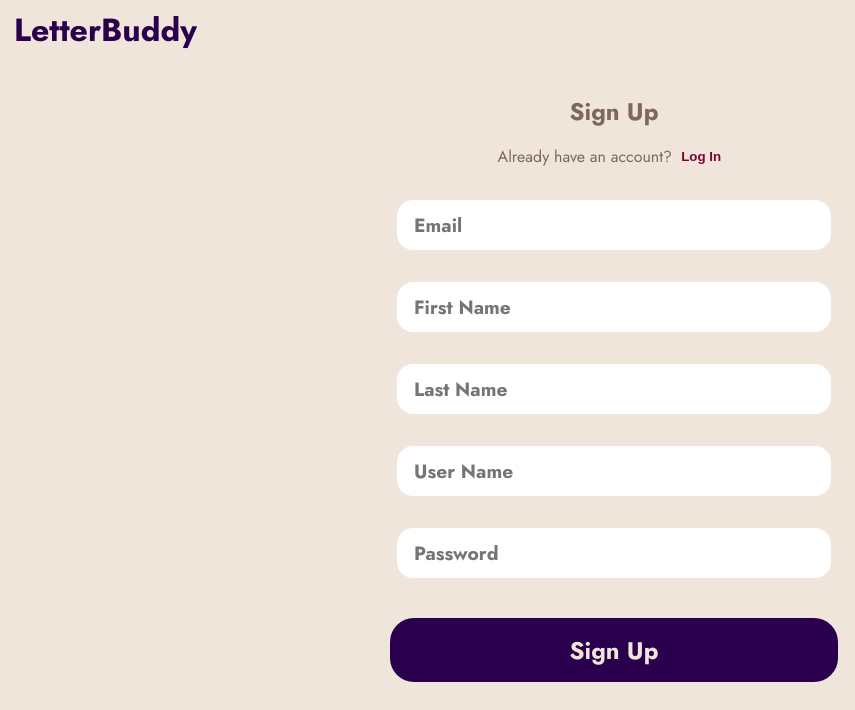
it: SignUp Form › should display validation error for short password
The image size is (855, 710).
Type "123" into the password field with placeholder "Password" at x=614, y=553, box x1=397 y1=528 x2=831 y2=578
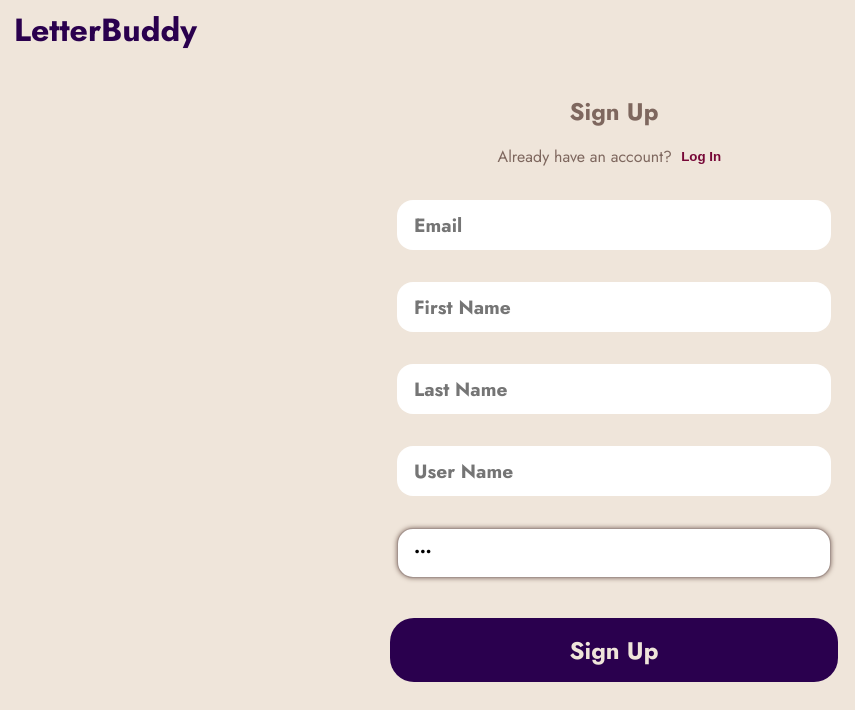
Click the submit button at x=614, y=650, box x1=390 y1=618 x2=838 y2=682
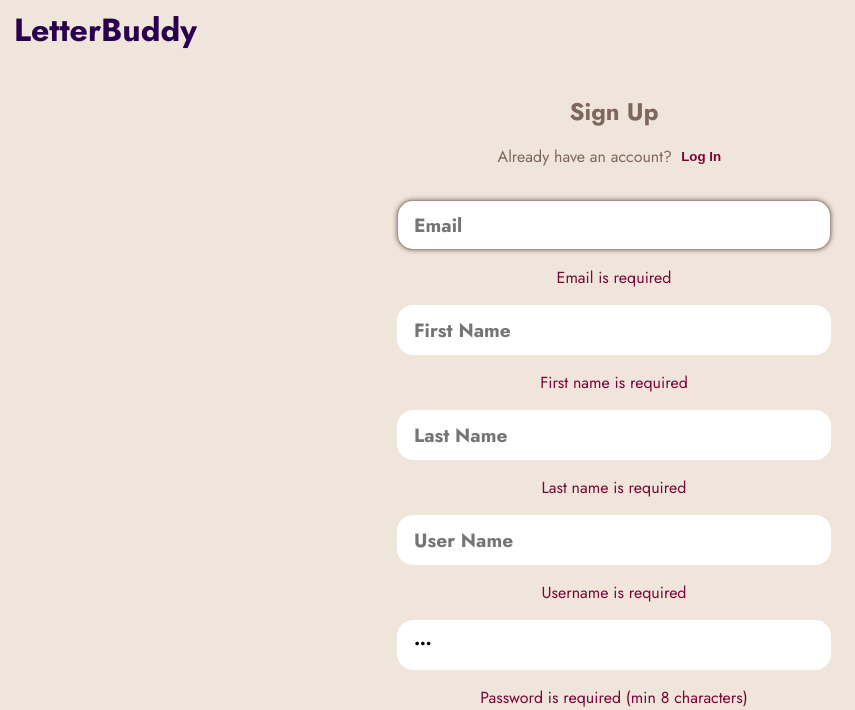
Expected: the text "Password is required (min 8 characters)" is shown, x1=480 y1=686 x2=748 y2=709
